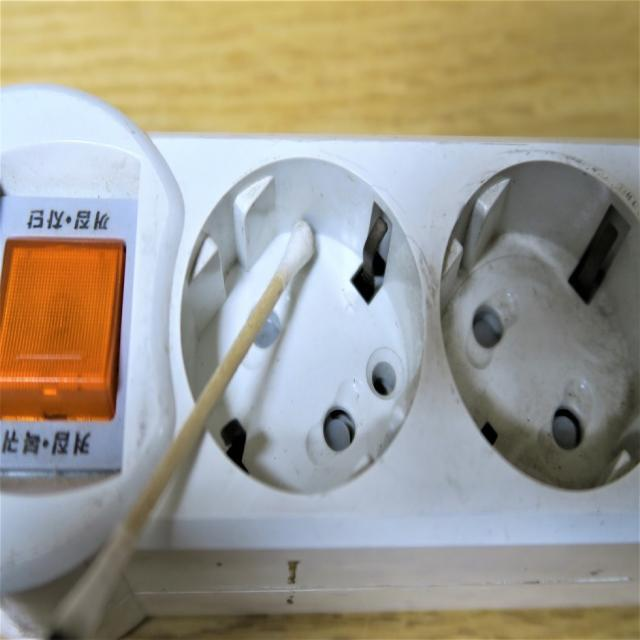typeb: (2, 64, 640, 626)
